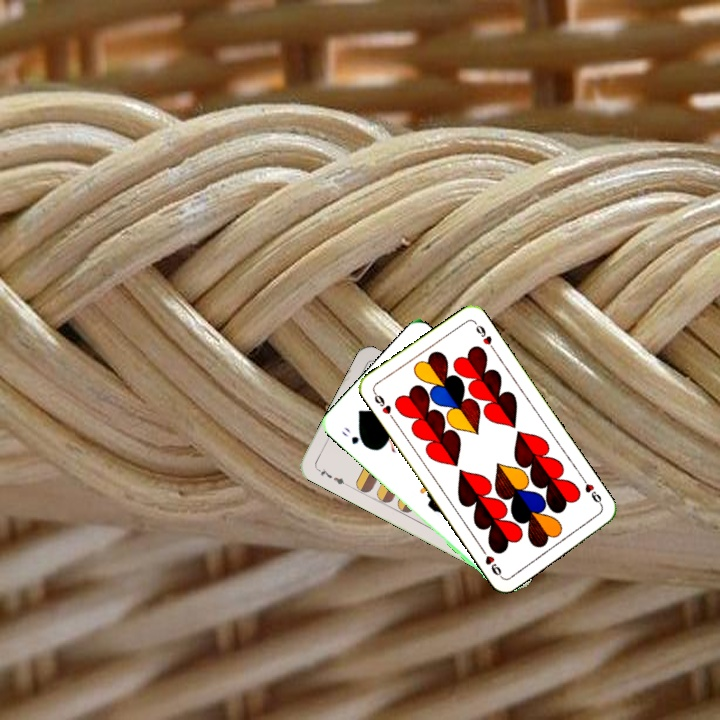E7: (312, 464, 350, 488)
GO: (338, 423, 370, 450)
H9: (369, 388, 397, 423), (578, 473, 605, 509)
